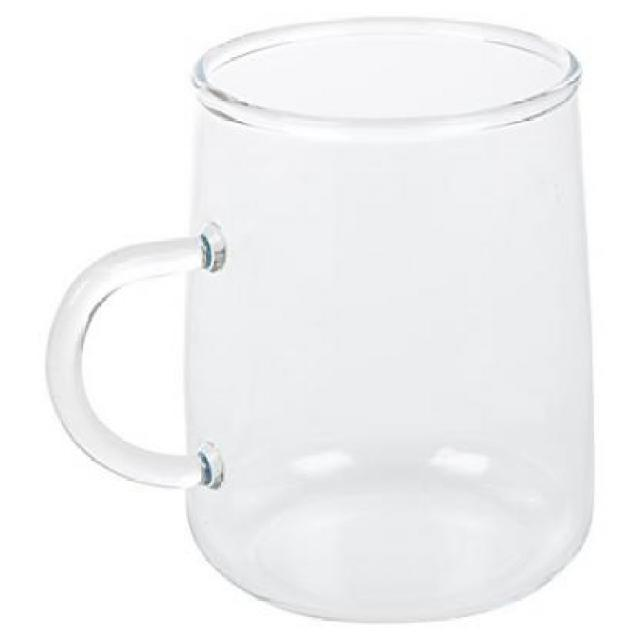taza: (45, 20, 608, 623)
